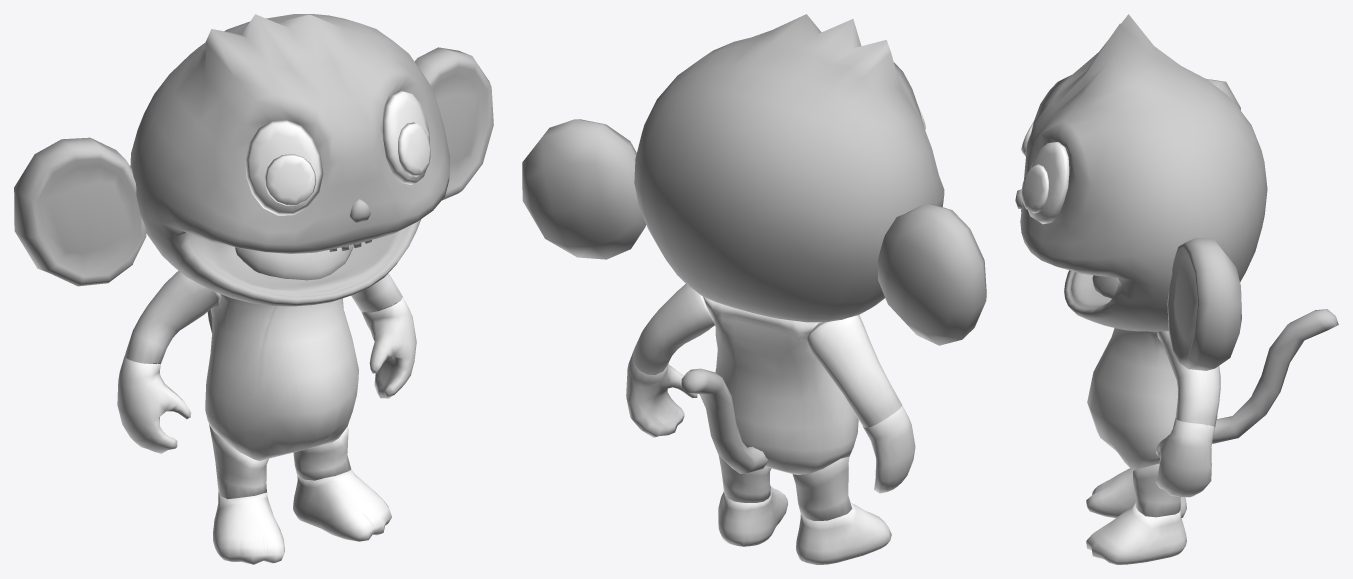
File: SM_Character_Monkey.fbx
3 renders of one model, left to right at view 1: azimuth 30°, elevation 25°; view 2: azimuth 150°, elevation 25°; view 3: azimuth 270°, elevation 25°, orthographic. The views are drawn at different scales.
Parts seen in each view (by area): view 1: Monkey, NEWBody, Eyes; view 2: Monkey, NEWBody; view 3: Monkey, NEWBody, Eyes.
Boxes of the visible parts, x1,y1,x2,y2 form: Monkey: (14,14,493,332); NEWBody: (117,270,416,564); Eyes: (245,91,430,215); Monkey: (522,14,986,473); NEWBody: (626,284,915,564); Monkey: (1015,14,1338,443); NEWBody: (1086,328,1220,564); Eyes: (1021,122,1069,224).
Bounding box in the file's own units: 0.8759 × 0.9644 × 0.5794.
